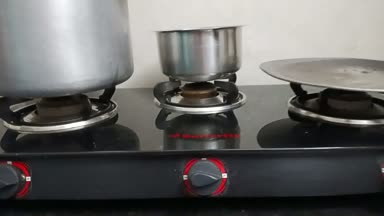flame_gas_off: (161, 73, 248, 193)
